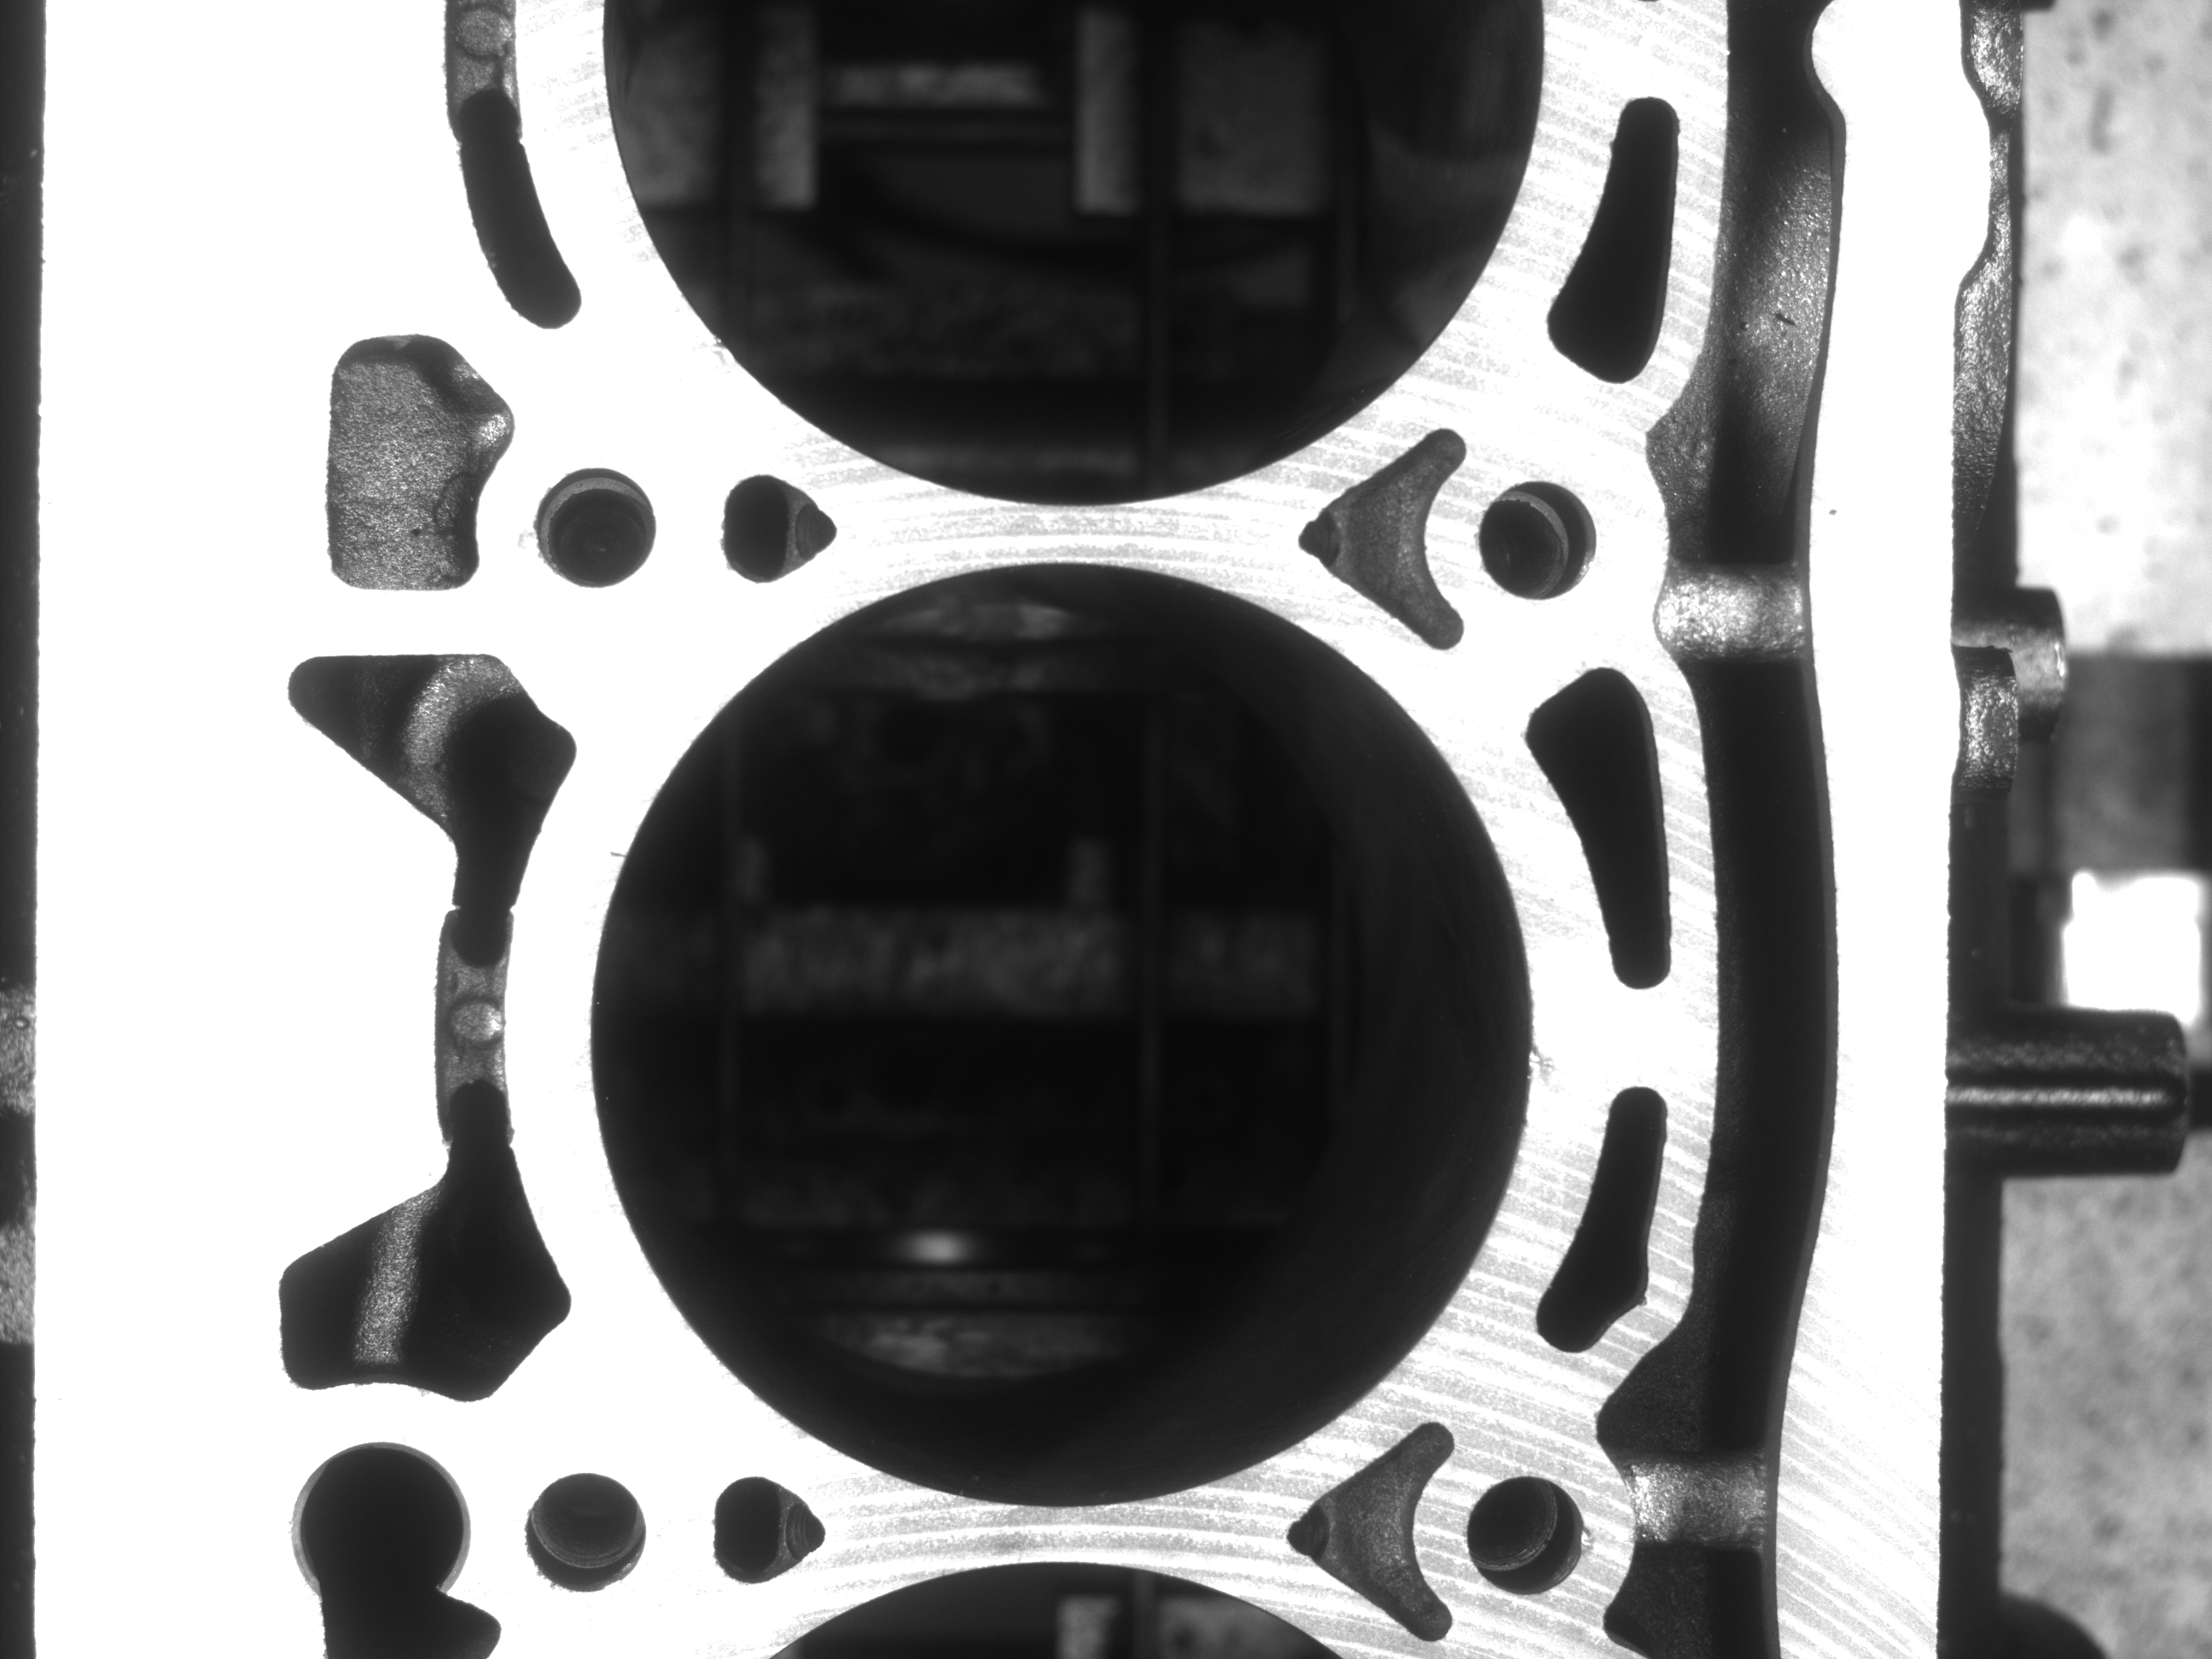sandhole: (1524, 1035, 1561, 1084)
shrinkage: (688, 331, 733, 382), (507, 511, 547, 566)
